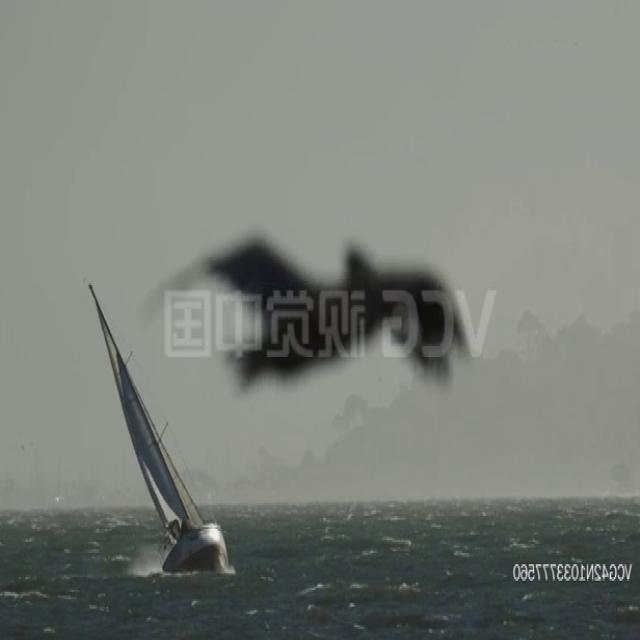sailboat: (84, 282, 242, 574)
